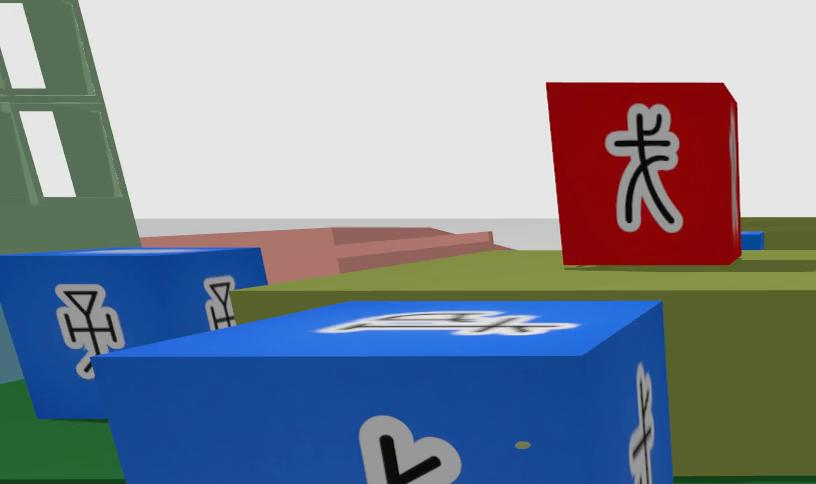KFS_FAKE: (544, 83, 744, 266), (606, 104, 682, 232), (729, 117, 745, 241)
KFS_REAL: (92, 299, 674, 484), (0, 248, 266, 419), (358, 415, 460, 484), (316, 310, 578, 335), (57, 284, 125, 379), (628, 364, 655, 484), (202, 276, 238, 331), (743, 229, 767, 252)
